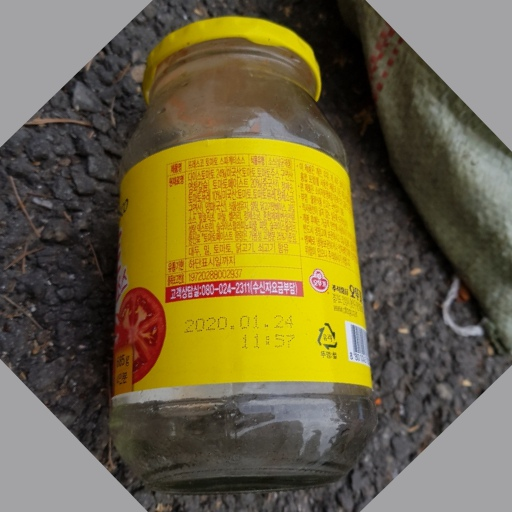Glass_5: (111, 16, 375, 485)
